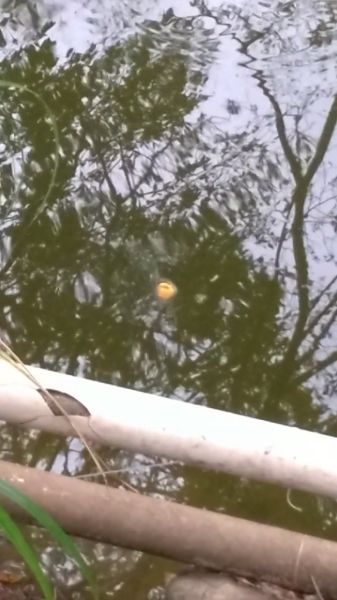eggs: (153, 278, 178, 302)
